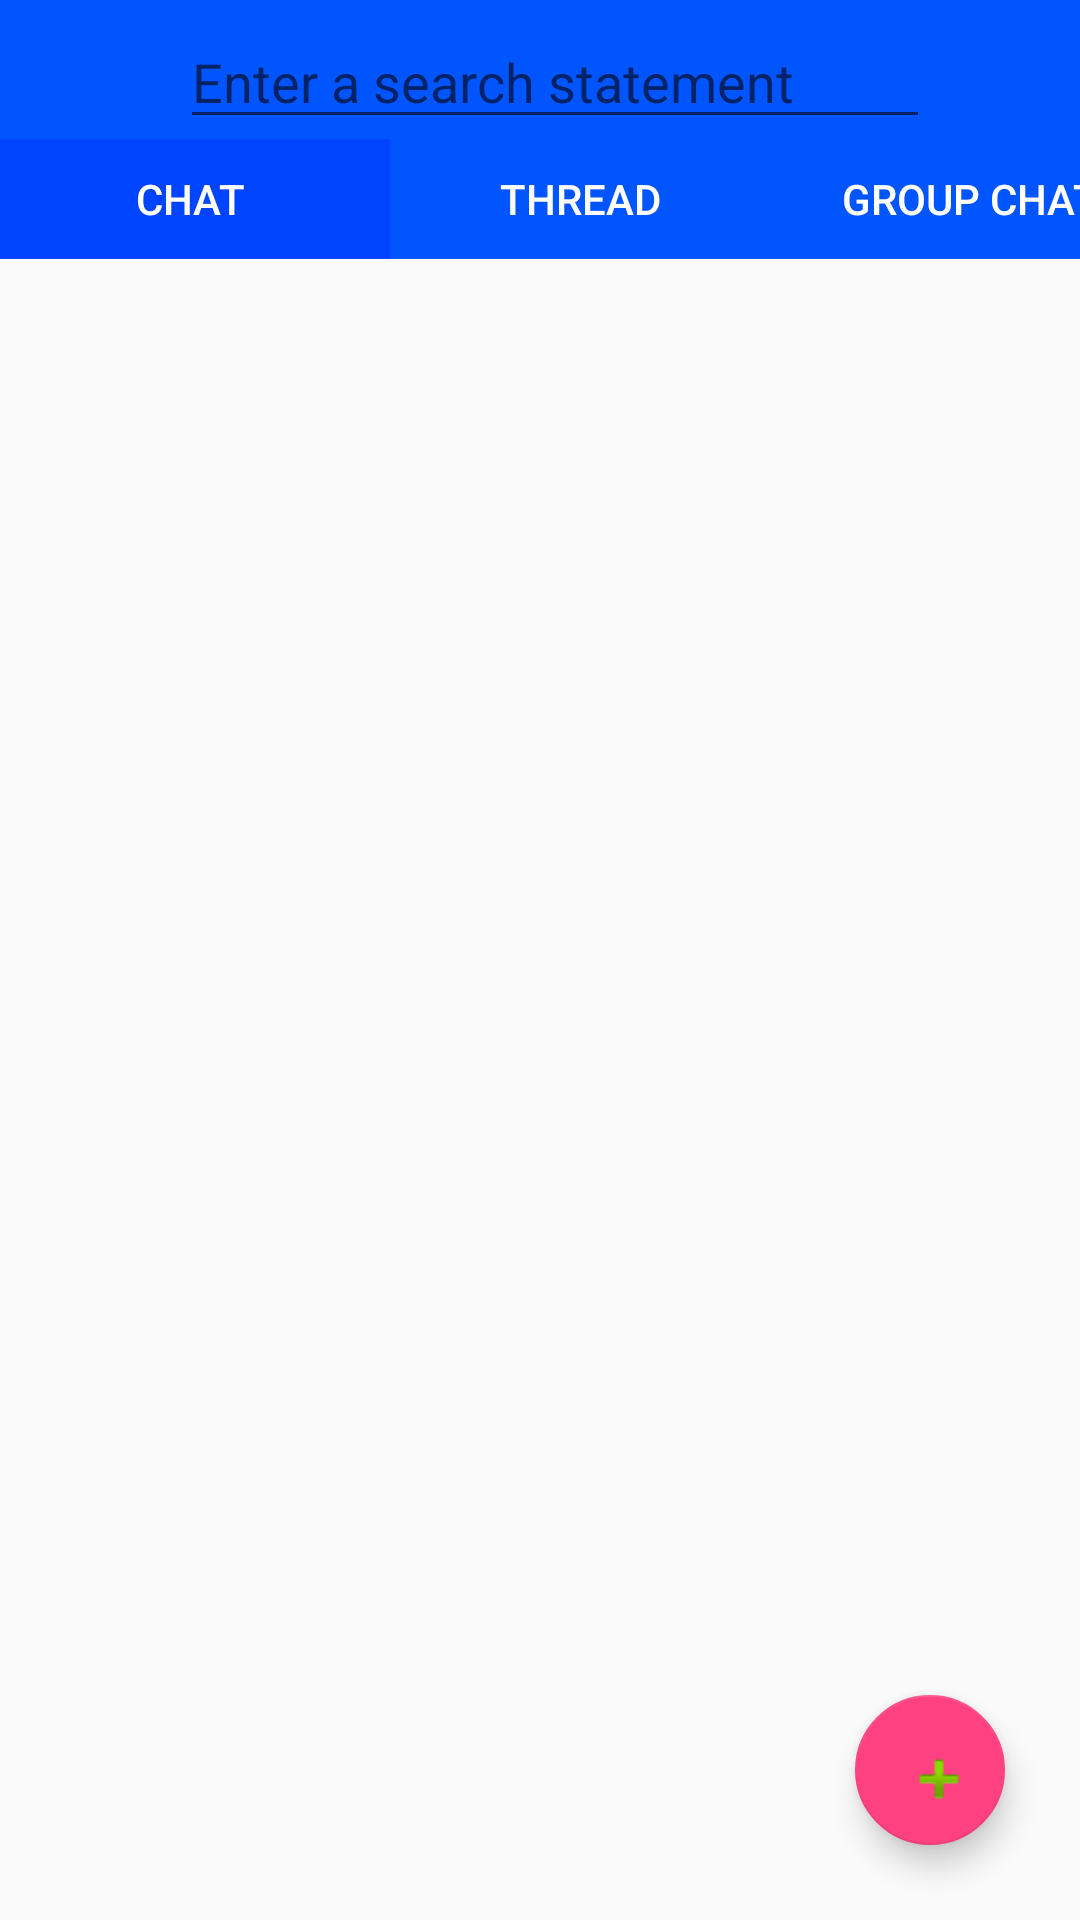

Locate icon controls on the screen. Image size 1080×1920, boxes as box=[x1, y1, x2, y2].
add: box=[855, 1695, 1005, 1845]
